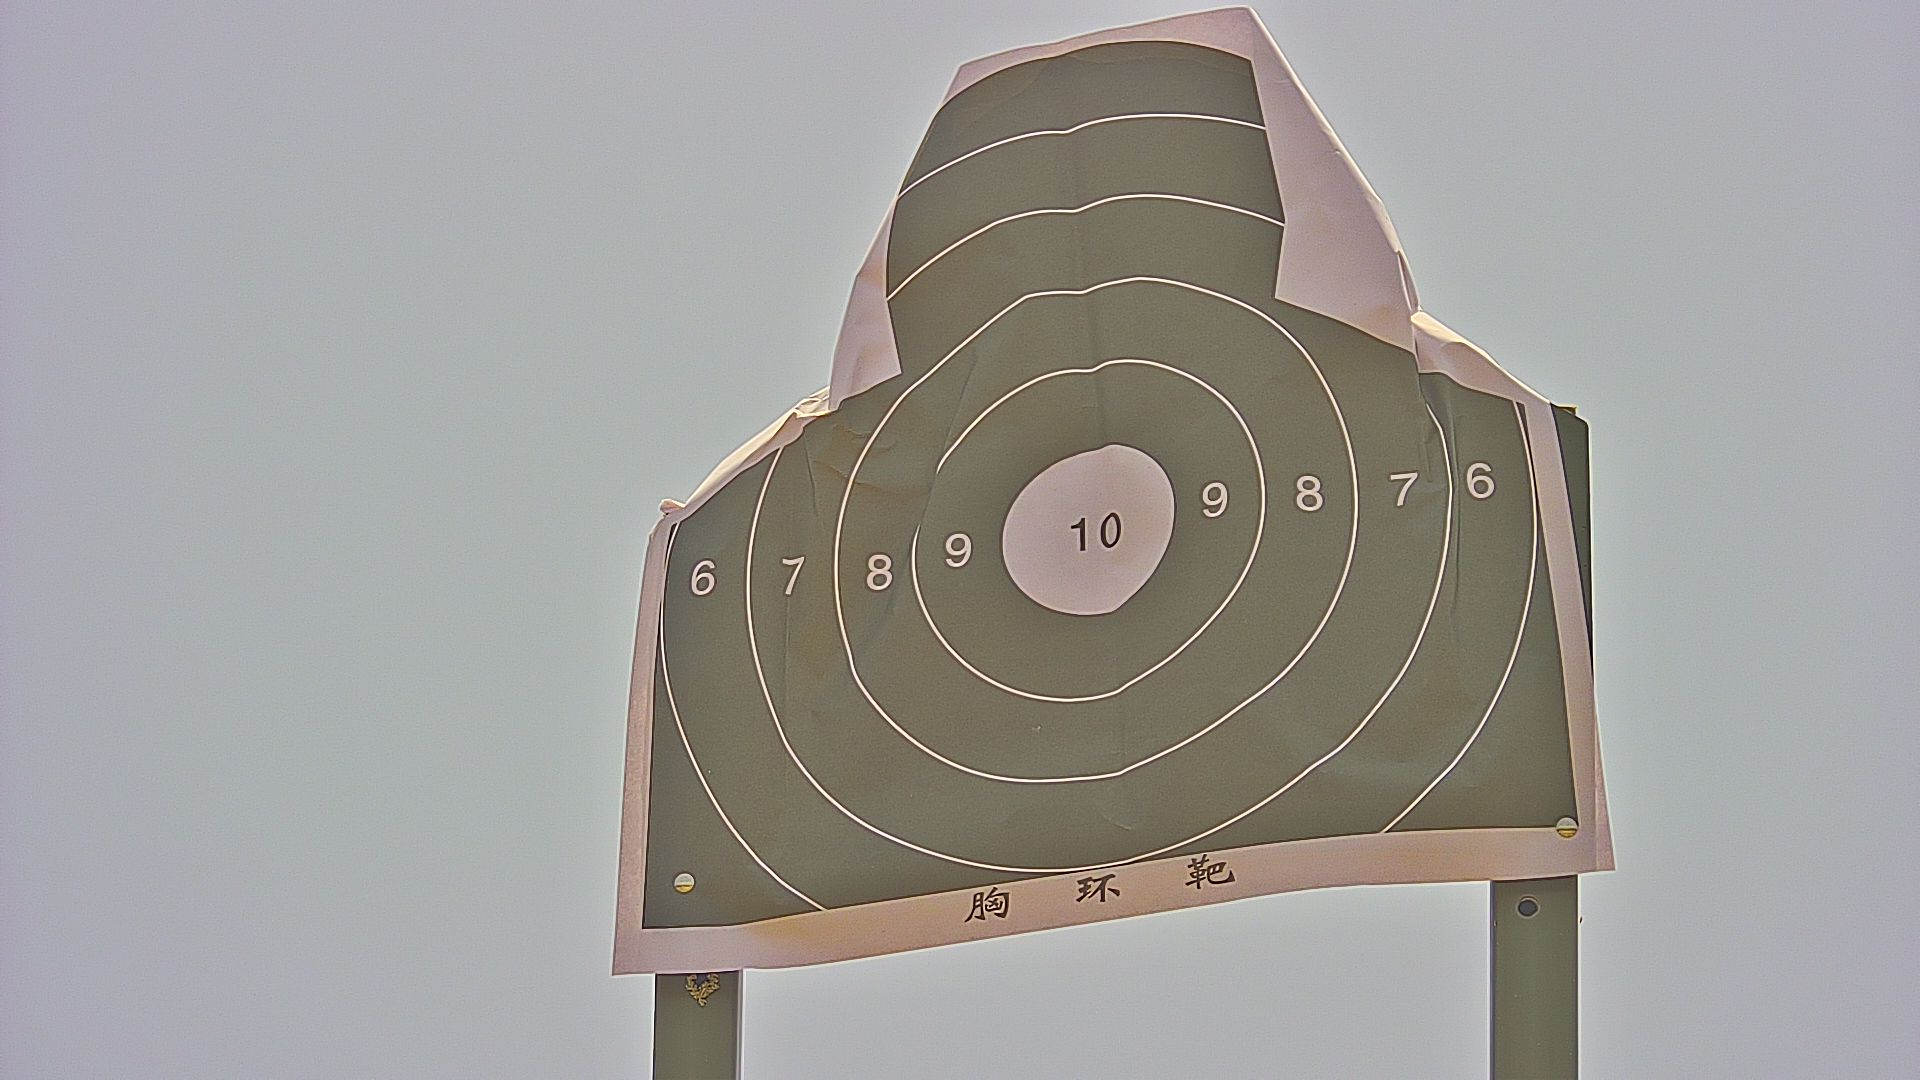kernel: (1093, 527, 1095, 534)
target: (646, 44, 1578, 936)
ten: (1000, 444, 1182, 616)
